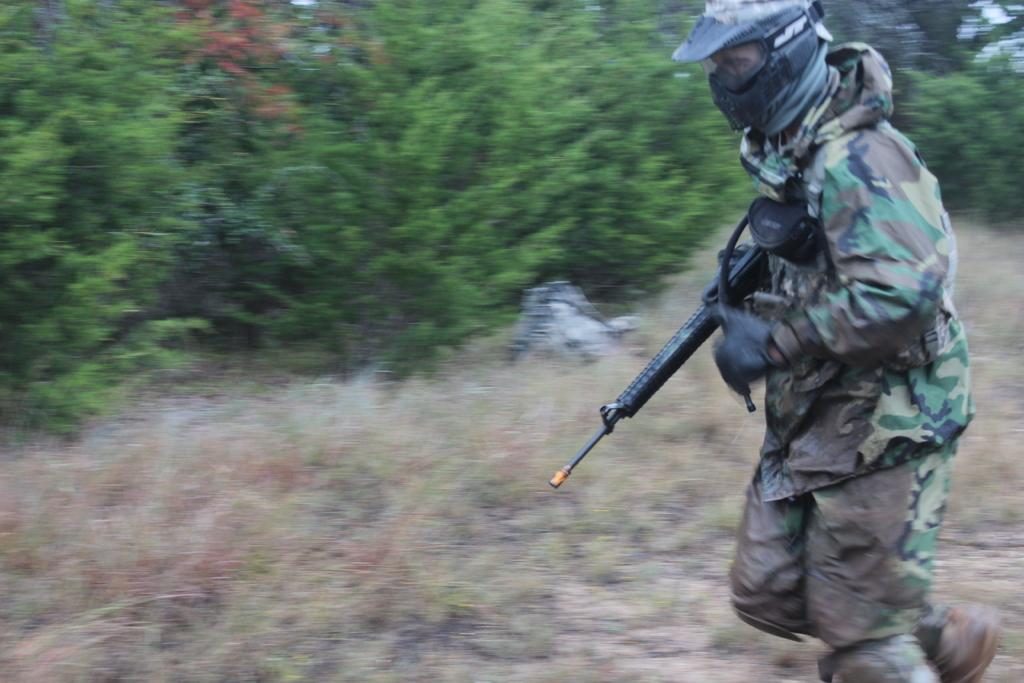non-violence: (662, 1, 999, 682)
weapon: (549, 240, 772, 486)
